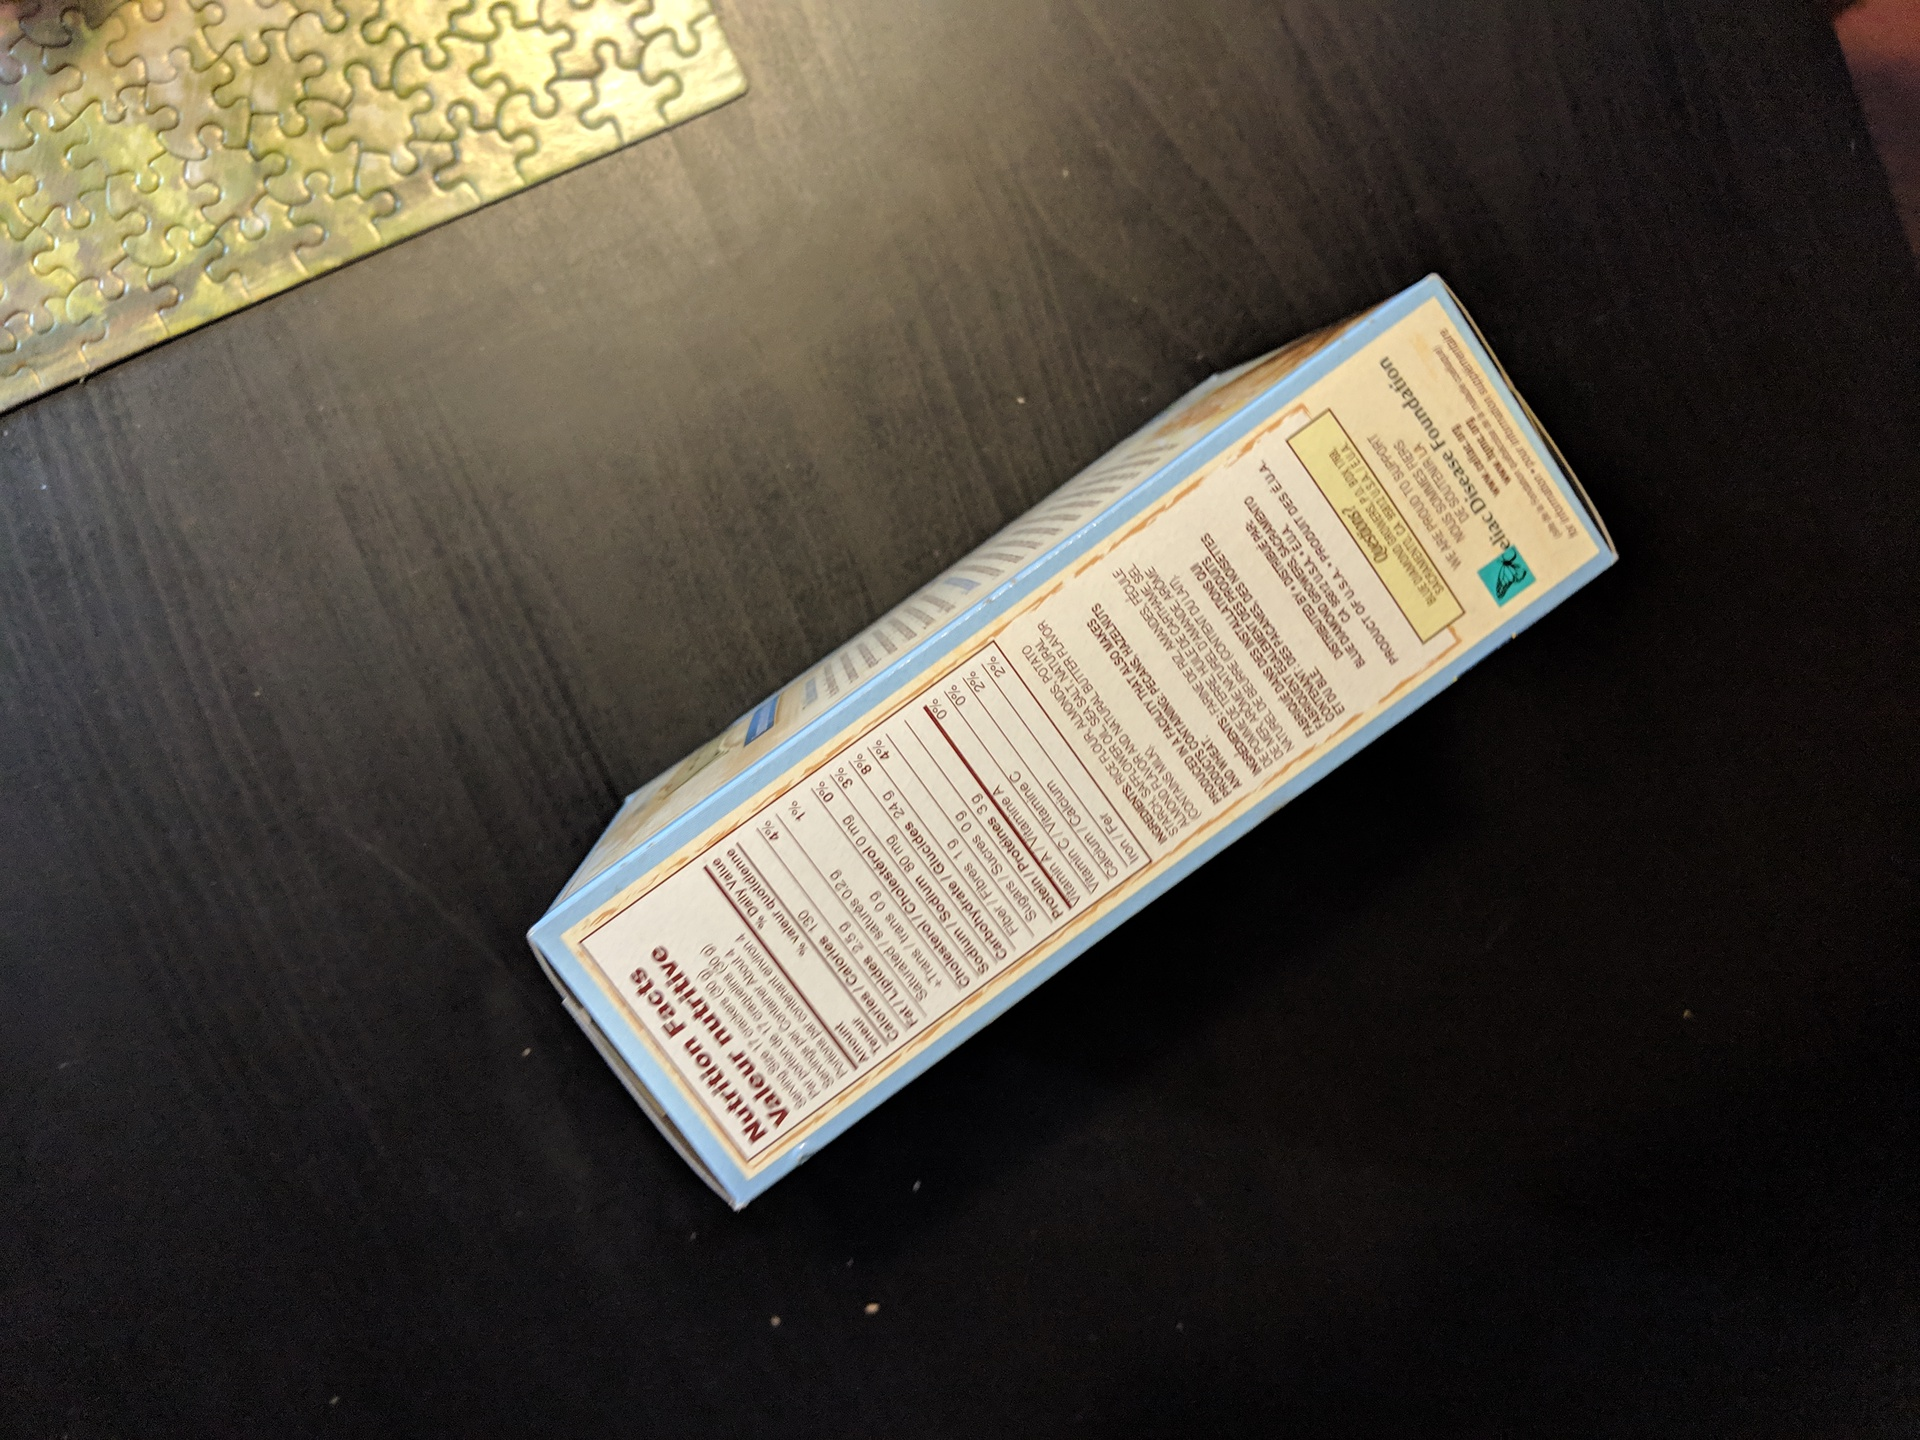blue_diamond_nut_thins_almond_seasalt: (609, 358, 1531, 1144)
